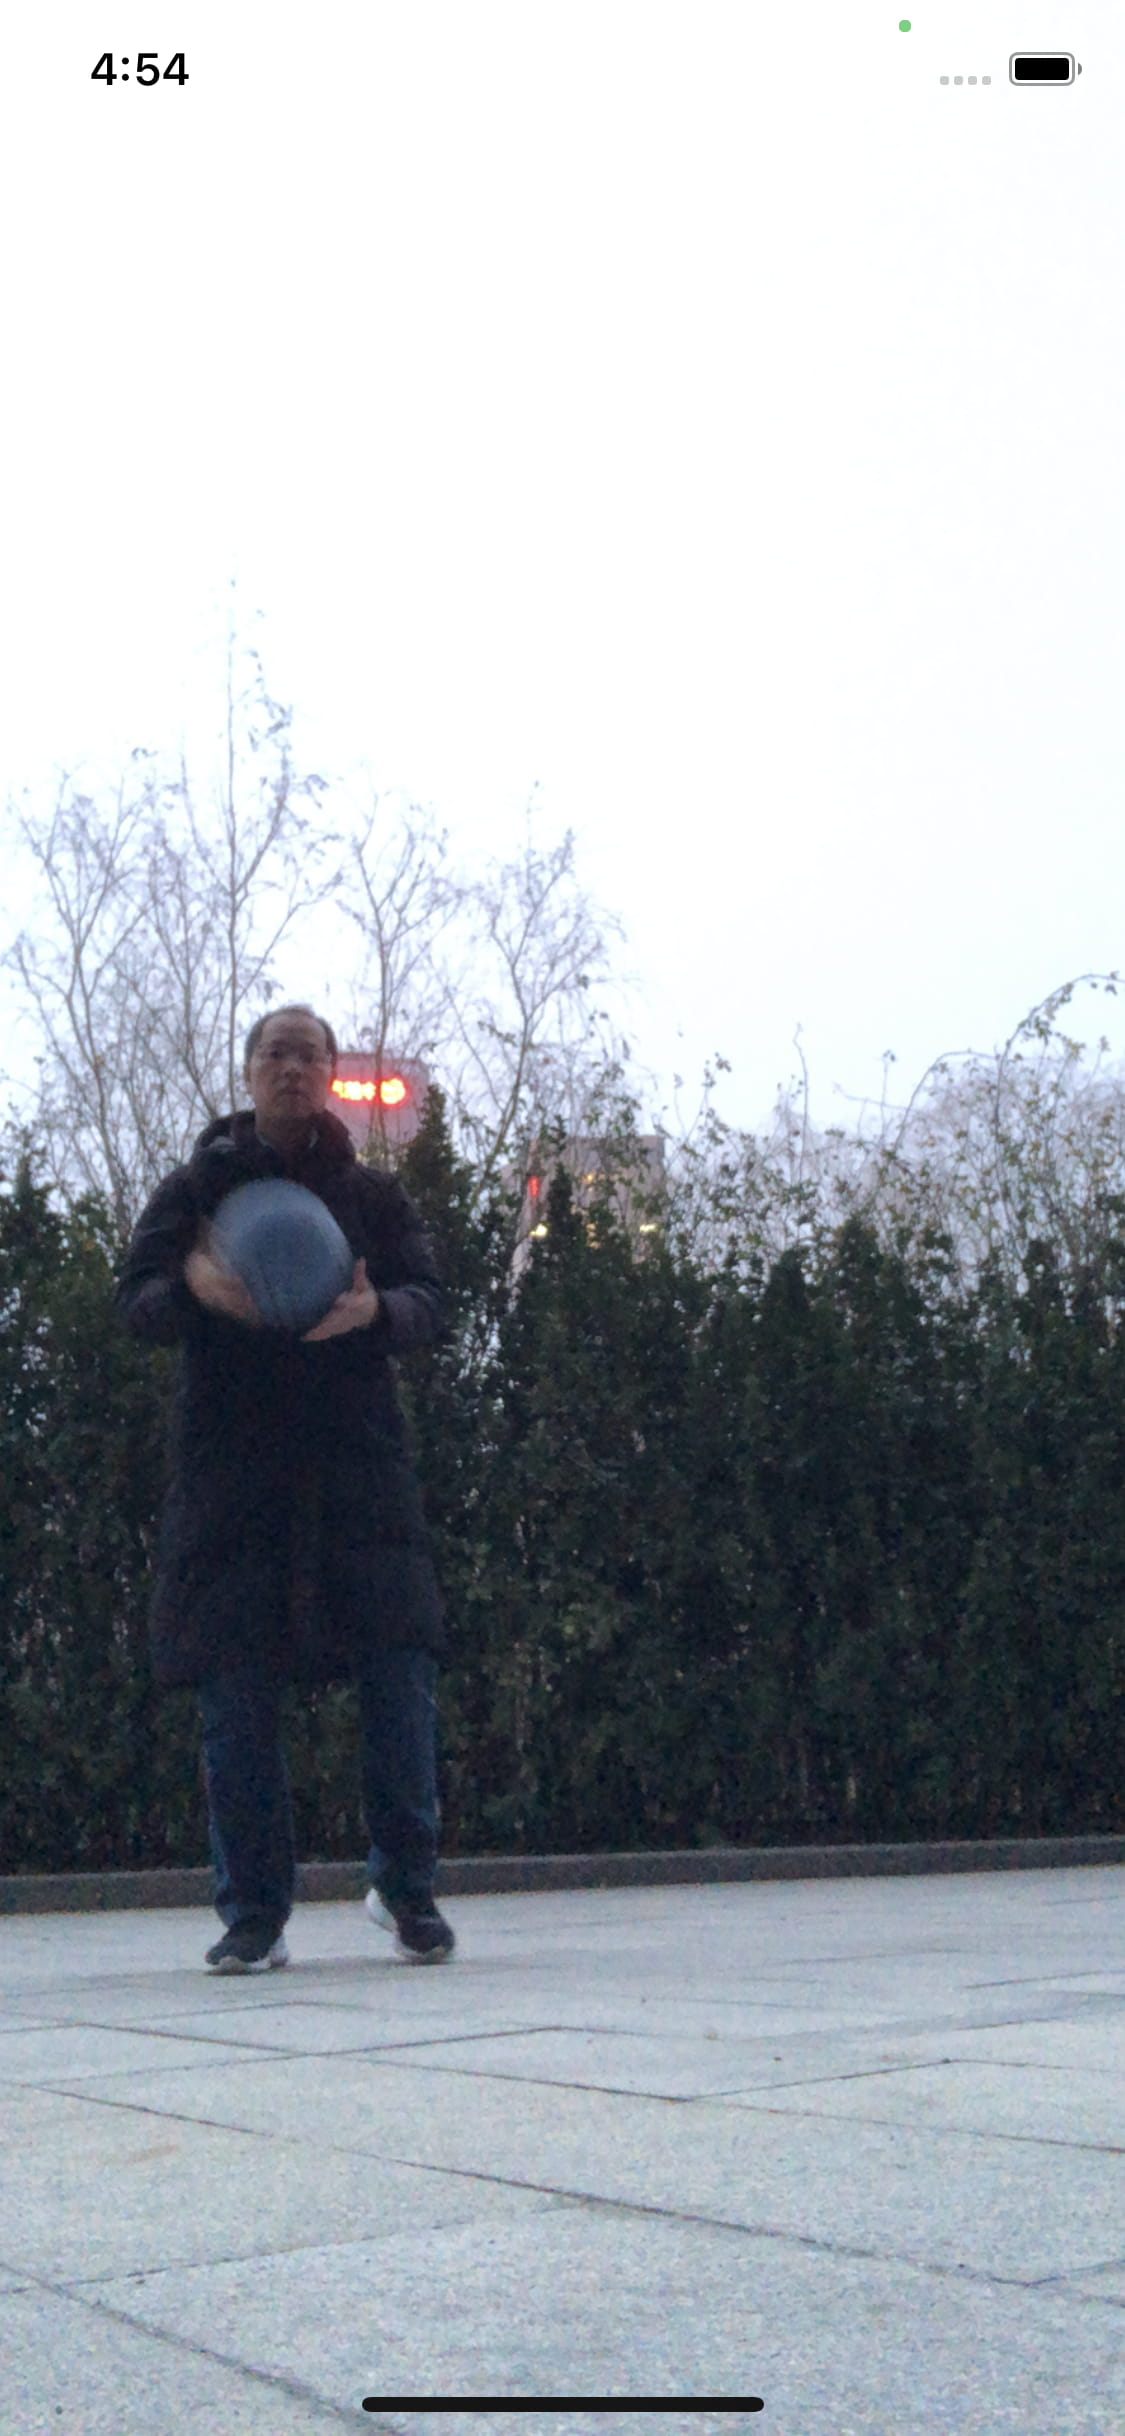ball: (214, 1181, 356, 1325)
